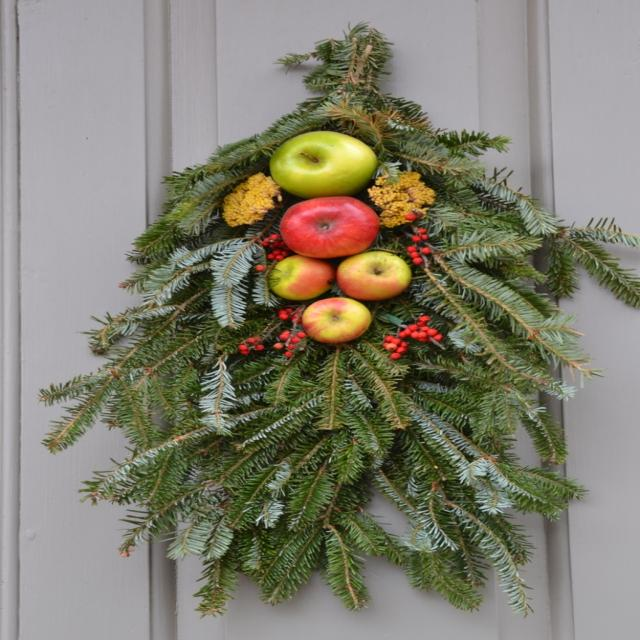Healty Apple: (266, 130, 378, 198), (282, 195, 376, 250), (336, 251, 412, 298), (303, 297, 371, 344), (269, 256, 331, 301)
